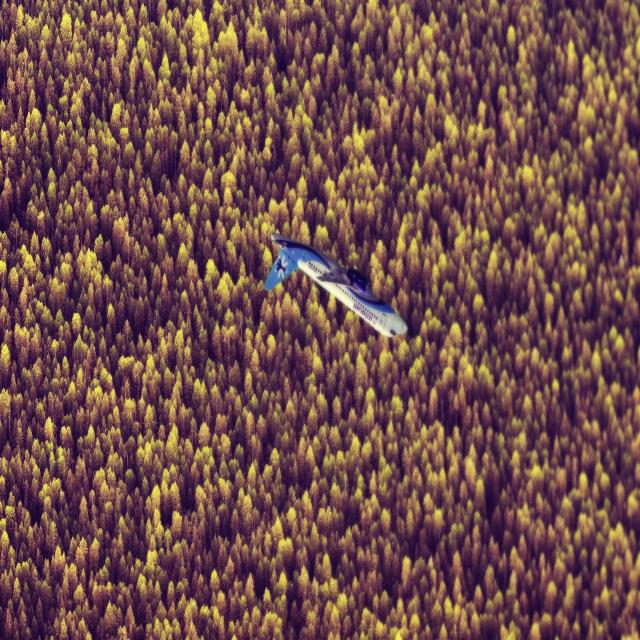airplane: (263, 231, 408, 340)
